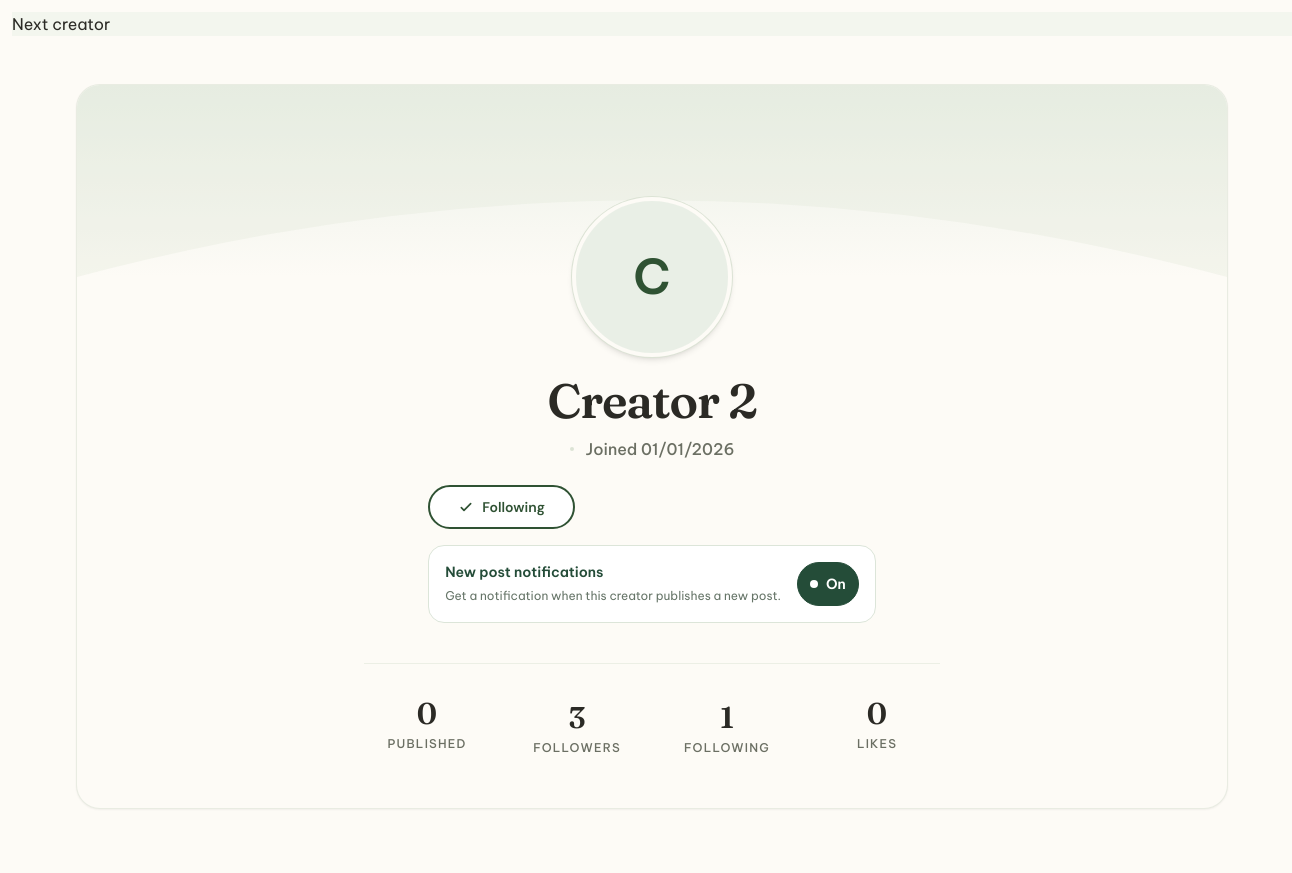
Test: restores saved preference and keeps it on after a failed update, allowing retry
This screenshot has width=1292, height=873.
Click the switch labelled "On": (828,584) [797,562,859,606]
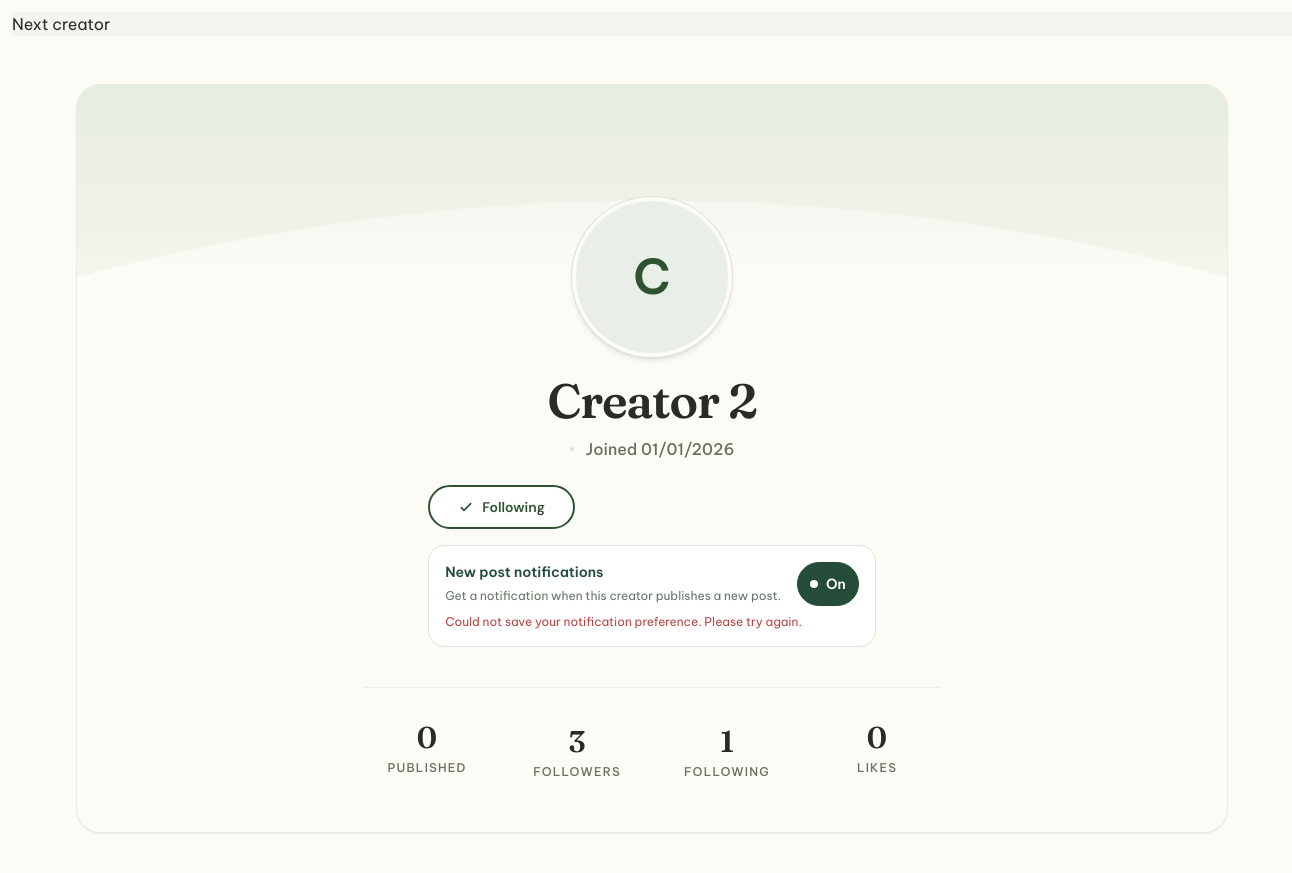
Expected: the message "Could not save your notification preference. Please try again." is shown, [445,614,859,630]
Click the switch labelled "On": (828,584) [797,562,859,606]
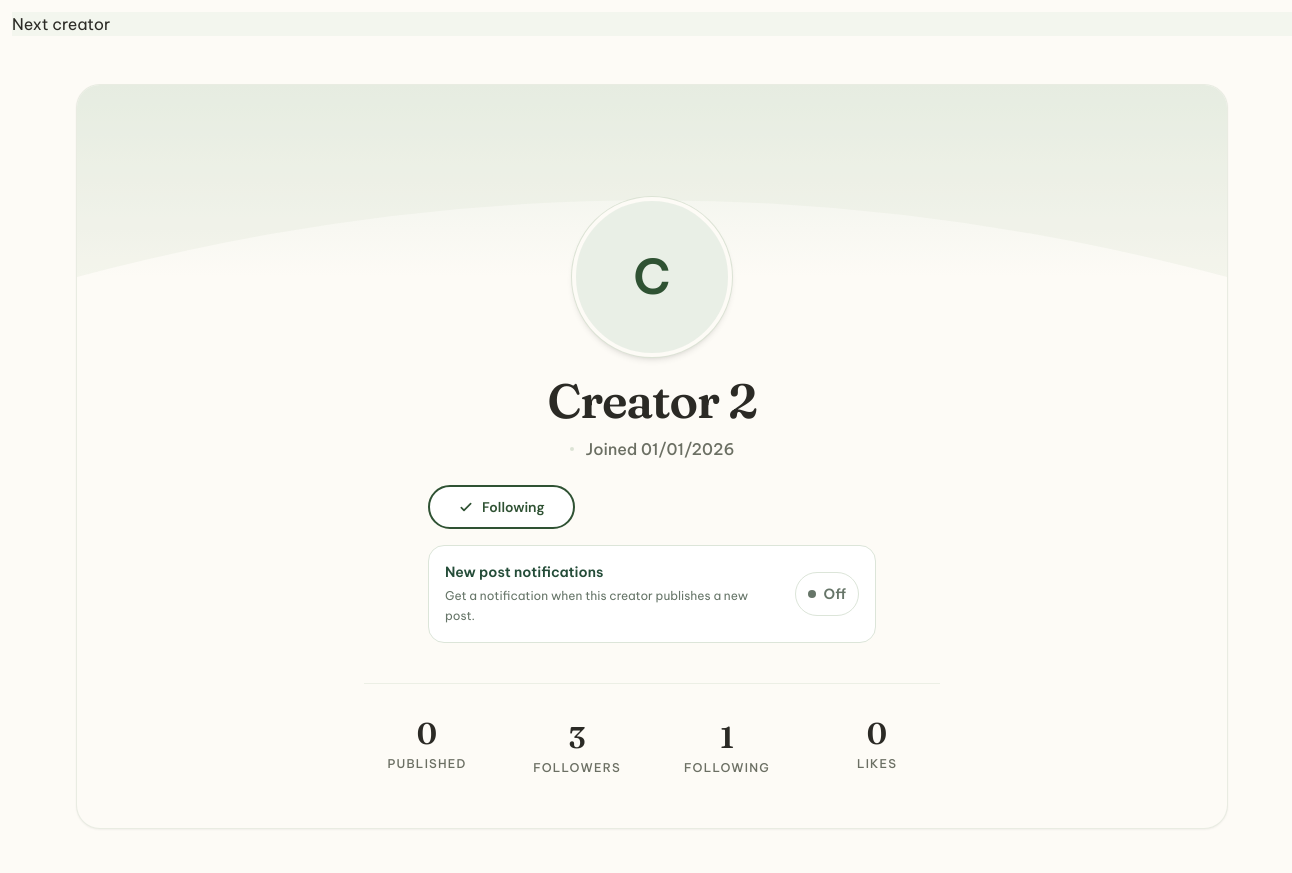
Expected: the message "Could not save your notification preference. Please try again." is gone
